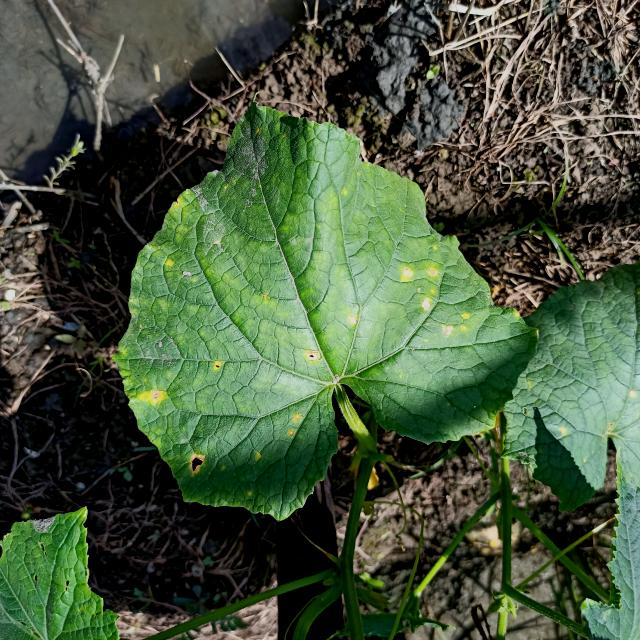disease_cucumber: (400, 267, 470, 339), (133, 388, 166, 408), (288, 410, 302, 440), (188, 451, 205, 474), (302, 348, 322, 363), (348, 316, 360, 326), (210, 360, 221, 370)
